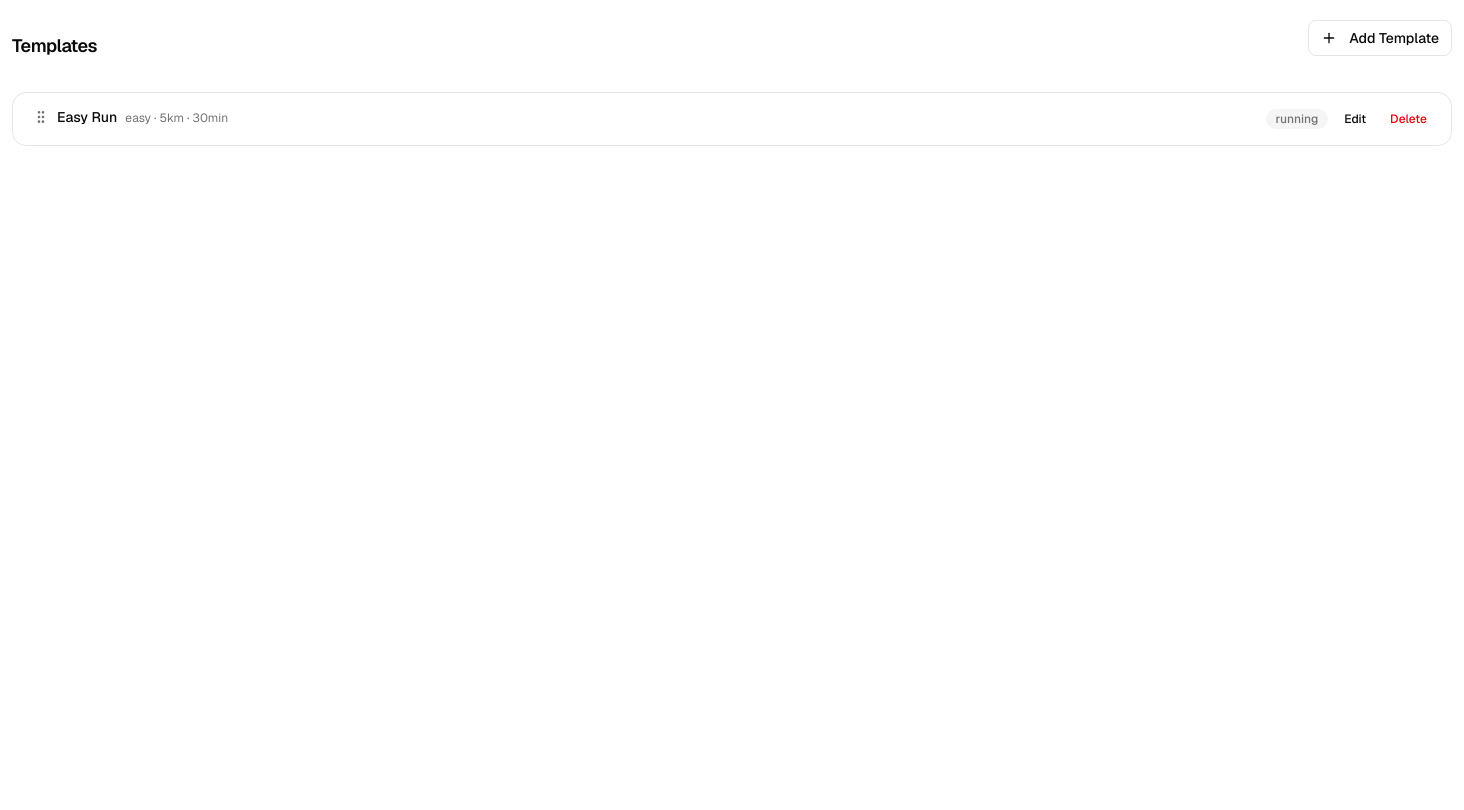
Test: TemplateSection — distance/duration inline edit (T129) › shows distance/duration inputs in edit mode for running template
The width and height of the screenshot is (1464, 810).
Click the button "Edit".
click(1355, 119)  # box [1336,105,1374,133]
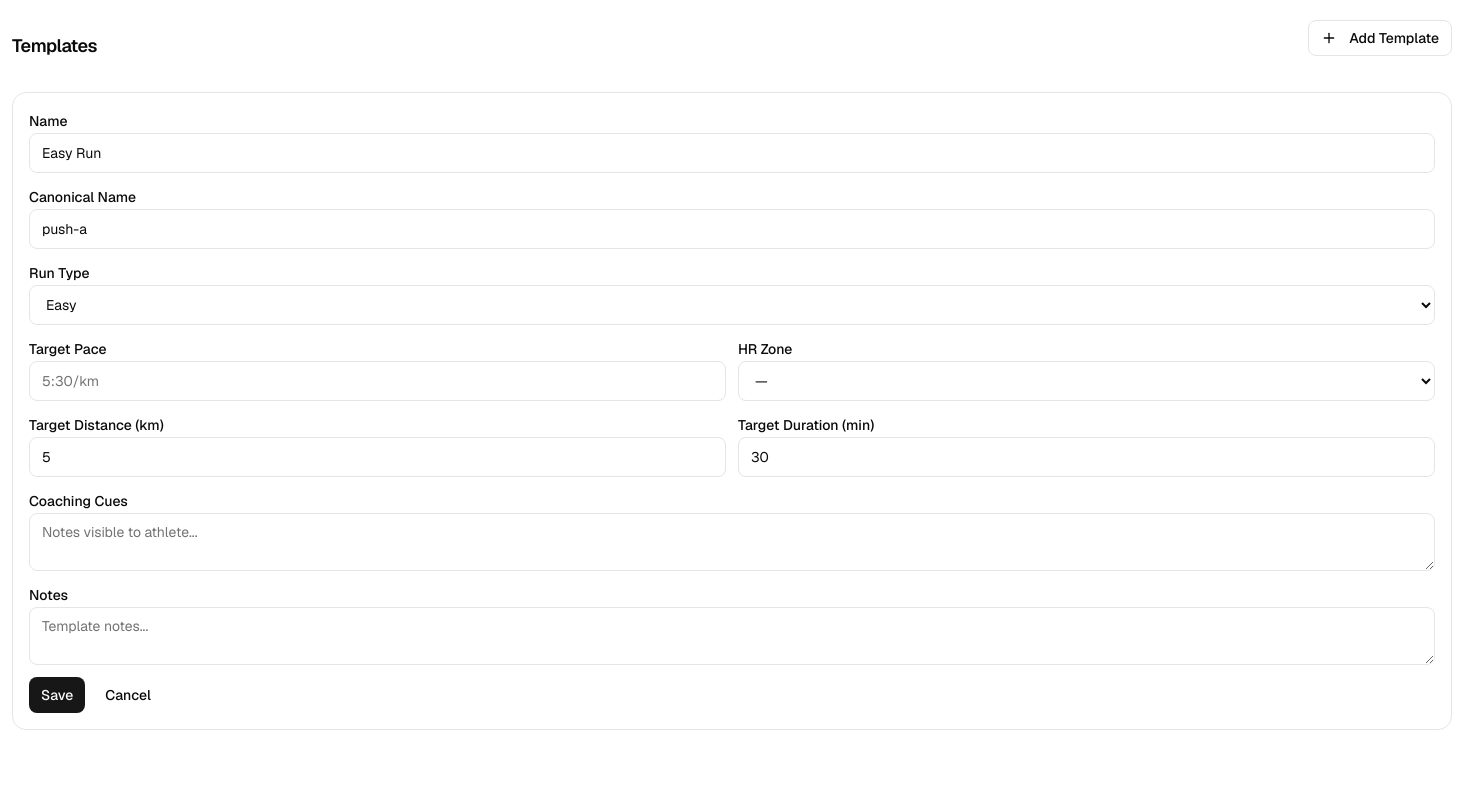
Expected: the field labelled "Target Distance (km)" is shown, [29,437,726,477]
Expected: the field labelled "Target Duration (min)" is shown, [738,437,1435,477]
